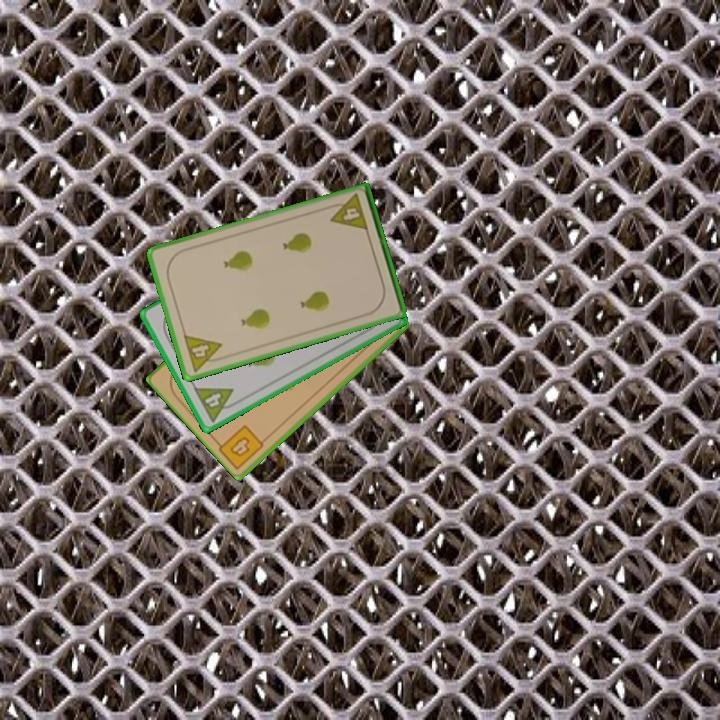4b: (226, 433, 253, 460)
4p: (190, 384, 243, 425), (180, 331, 228, 375), (324, 190, 371, 234)
